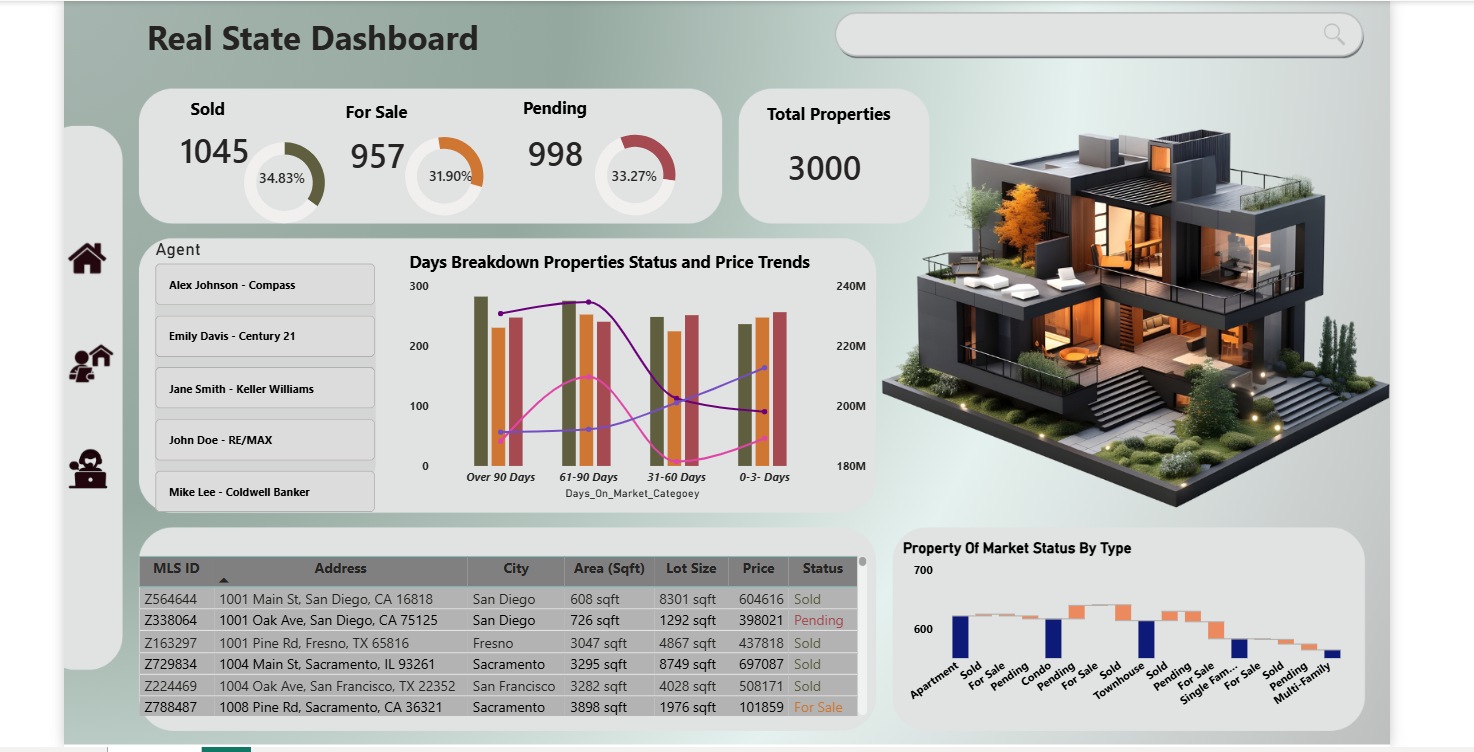

Layout of this report page (visuals, bound fields, positions):
{"tool":"powerbi","page":{"name":"Page 1","canvas":[1280,720],"ordinal":0},"visuals":[{"type":"textbox","box":[75,8.8,356.2,65],"z":0},{"type":"cardVisual","fields":{"Data":["RealEstate_Dataset.Total Properties"]},"box":[670,126.7,135,65],"z":1000},{"type":"cardVisual","fields":{"Data":["RealEstate_Dataset.Properties_sold"]},"box":[83.3,110,130,65],"z":2000},{"type":"cardVisual","fields":{"Data":["RealEstate_Dataset.Properties_of_sale"]},"box":[247.1,114.3,118.6,64.3],"z":3000},{"type":"cardVisual","fields":{"Data":["RealEstate_Dataset.Properties_Pending"]},"box":[418.3,111.7,116.7,66.7],"z":4000},{"type":"cardVisual","fields":{"Data":["RealEstate_Dataset.%_Properties_Sold"]},"box":[159.1,140,108.2,58.2],"z":5000},{"type":"cardVisual","fields":{"Data":["RealEstate_Dataset.%_Properties_ForSale"]},"box":[322.9,141.4,115.7,52.9],"z":6000},{"type":"cardVisual","fields":{"Data":["RealEstate_Dataset.%_Properties_pending"]},"box":[500,140,110,54.3],"z":7000},{"type":"donutChart","fields":{"Category":["RealEstate_Dataset.Status"],"Y":["CountNonNull(RealEstate_Dataset.Status)"]},"box":[158.8,121.2,107.5,107.5],"z":8000},{"type":"donutChart","fields":{"Category":["RealEstate_Dataset.Status"],"Y":["CountNonNull(RealEstate_Dataset.Status)"]},"box":[297.3,117.3,140.9,104.5],"z":9000},{"type":"donutChart","fields":{"Category":["RealEstate_Dataset.Status"],"Y":["CountNonNull(RealEstate_Dataset.Status)"]},"box":[477.1,114.3,150,107.1],"z":10000},{"type":"textbox","box":[673.3,93.3,131.7,38.3],"z":11000},{"type":"textbox","box":[438.3,86.7,80,38.3],"z":12000},{"type":"textbox","box":[267.1,90,84.3,38.6],"z":13000},{"type":"textbox","box":[116.7,88.3,63.3,38.3],"z":14000},{"type":"lineClusteredColumnComboChart","title":"Days Breakdown Properties Status and Price Trends","fields":{"Category":["RealEstate_Dataset.Days_On_Market_Categoey"],"Y":["RealEstate_Dataset.Properties_sold","RealEstate_Dataset.Properties_of_sale","RealEstate_Dataset.Properties_Pending"],"Y2":["RealEstate_Dataset.total_Sold_Price","RealEstate_Dataset.Total_Sale_Price","RealEstate_Dataset.Total_Pending_Price"]},"box":[328.3,240,451.7,246.7],"z":15000},{"type":"tableEx","fields":{"Values":["RealEstate_Dataset.MLS ID","RealEstate_Dataset.Address","RealEstate_Dataset.City","RealEstate_Dataset.Area (Sqft)","RealEstate_Dataset.Lot Size","RealEstate_Dataset.Price","RealEstate_Dataset.Status"]},"box":[66.2,531.2,713.8,163.8],"z":16000},{"type":"waterfallChart","title":"Property Of Market Status By Type ","fields":{"Category":["RealEstate_Dataset.Property Type"],"Breakdown":["RealEstate_Dataset.Status"],"Y":["CountNonNull(RealEstate_Dataset.Status)"]},"box":[805,518.3,441.7,171.7],"z":17000},{"type":"advancedSlicerVisual","fields":{"Values":["RealEstate_Dataset.Listing Agent"]},"box":[83.8,228.8,222.5,270],"z":18000}]}

Visuals, with their boxes on the page's 1280x720 design canvas (x1, y1, x2, y2). These are canvas units, not pixel positions in the 1474x752 screenshot, which may show the page scaled, cropped or inside an application window:
textbox: 75:9:431:74
cardVisual - RealEstate_Dataset.Total Properties: 670:127:805:192
cardVisual - RealEstate_Dataset.Properties_sold: 83:110:213:175
cardVisual - RealEstate_Dataset.Properties_of_sale: 247:114:366:179
cardVisual - RealEstate_Dataset.Properties_Pending: 418:112:535:178
cardVisual - RealEstate_Dataset.%_Properties_Sold: 159:140:267:198
cardVisual - RealEstate_Dataset.%_Properties_ForSale: 323:141:439:194
cardVisual - RealEstate_Dataset.%_Properties_pending: 500:140:610:194
donutChart - RealEstate_Dataset.Status x CountNonNull(RealEstate_Dataset.Status): 159:121:266:229
donutChart - RealEstate_Dataset.Status x CountNonNull(RealEstate_Dataset.Status): 297:117:438:222
donutChart - RealEstate_Dataset.Status x CountNonNull(RealEstate_Dataset.Status): 477:114:627:221
textbox: 673:93:805:132
textbox: 438:87:518:125
textbox: 267:90:351:129
textbox: 117:88:180:127
"Days Breakdown Properties Status and Price Trends" lineClusteredColumnComboChart: 328:240:780:487
tableEx - RealEstate_Dataset.MLS ID x RealEstate_Dataset.Address: 66:531:780:695
"Property Of Market Status By Type " waterfallChart: 805:518:1247:690
advancedSlicerVisual - RealEstate_Dataset.Listing Agent: 84:229:306:499
